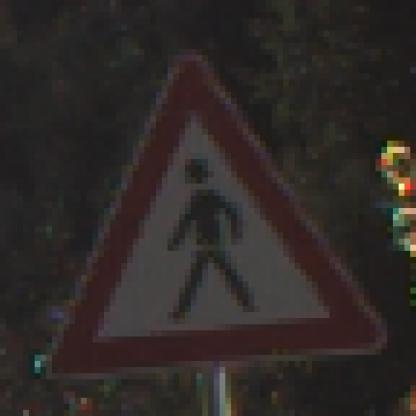crosswalk: (35, 38, 401, 408)
